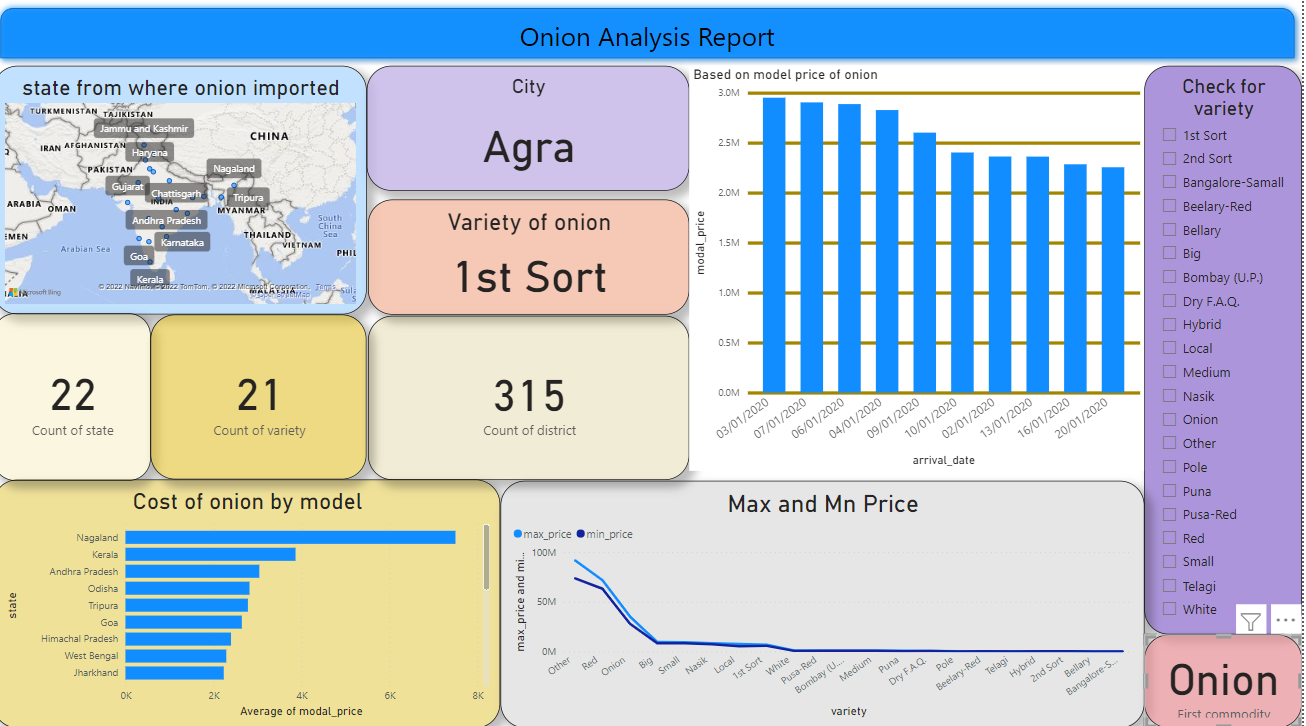

The dashboard page shown, as its layout file describes it:
{"tool":"powerbi","page":{"name":"Onion Analysis","canvas":[1600,900],"ordinal":0},"visuals":[{"type":"shape","box":[0,10.7,1599.8,79.5],"z":0},{"type":"map","title":"state from where onion imported","fields":{"Category":["Onion Prices 2020.state"]},"box":[0,90.5,457.2,304.4],"z":1},{"type":"card","title":"City ","fields":{"Values":["Min(Onion Prices 2020.district)"]},"box":[456.9,90.2,394.2,152.8],"z":2},{"type":"card","title":"Variety of onion","fields":{"Values":["Min(Onion Prices 2020.variety)"]},"box":[458.4,253.7,392.7,140.6],"z":3},{"type":"barChart","title":"Cost of onion by model","fields":{"Category":["Onion Prices 2020.state"],"Y":["Avg(Onion Prices 2020.modal_price)"]},"box":[0,595.9,620.4,304.1],"z":4},{"type":"slicer","title":"Check for variety","fields":{"Values":["Onion Prices 2020.variety"]},"box":[1407.3,90.2,192.5,695.2],"z":5},{"type":"lineChart","title":"Max and Mn Price","fields":{"Category":["Onion Prices 2020.variety"],"Y":["Sum(Onion Prices 2020.max_price)","Sum(Onion Prices 2020.min_price)"]},"box":[620.4,597.5,786.9,302.5],"z":6},{"type":"card","fields":{"Values":["Count(Onion Prices 2020.state)"]},"box":[0,392.7,192.5,204.8],"z":7},{"type":"card","fields":{"Values":["Count(Onion Prices 2020.variety)"]},"box":[192.5,394.2,264.3,201.7],"z":8},{"type":"card","fields":{"Values":["Count(Onion Prices 2020.district)"]},"box":[458,395,393,201],"z":9},{"type":"columnChart","title":"Based on model price of onion","fields":{"Category":["Onion Prices 2020.arrival_date"],"Y":["Sum(Onion Prices 2020.modal_price)"]},"box":[851.1,90.2,556.2,495.1],"z":10},{"type":"card","fields":{"Values":["Min(Onion Prices 2020.commodity)"]},"box":[1407.3,785.4,192.5,114.6],"z":11}]}

Visuals, with their boxes in screenshot pixels (x1, y1, x2, y2), scaled from the page's 1600x900 canvas onto the 1306x726 screenshot:
shape: left=0, top=9, right=1305, bottom=73
"state from where onion imported" map: left=0, top=73, right=373, bottom=319
"City " card: left=373, top=73, right=695, bottom=196
"Variety of onion" card: left=374, top=205, right=695, bottom=318
"Cost of onion by model" barChart: left=0, top=481, right=506, bottom=725
"Check for variety" slicer: left=1149, top=73, right=1305, bottom=634
"Max and Mn Price" lineChart: left=506, top=482, right=1149, bottom=725
card - Count(Onion Prices 2020.state): left=0, top=317, right=157, bottom=482
card - Count(Onion Prices 2020.variety): left=157, top=318, right=373, bottom=481
card - Count(Onion Prices 2020.district): left=374, top=319, right=695, bottom=481
"Based on model price of onion" columnChart: left=695, top=73, right=1149, bottom=472
card - Min(Onion Prices 2020.commodity): left=1149, top=634, right=1305, bottom=725
